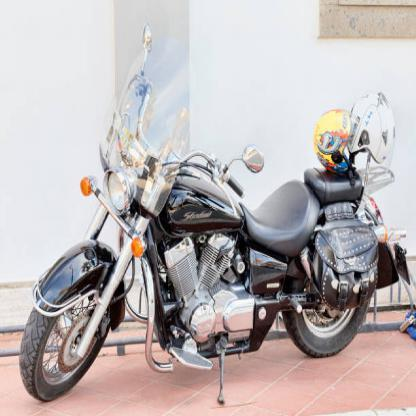Motorcycle: (15, 25, 415, 415)
